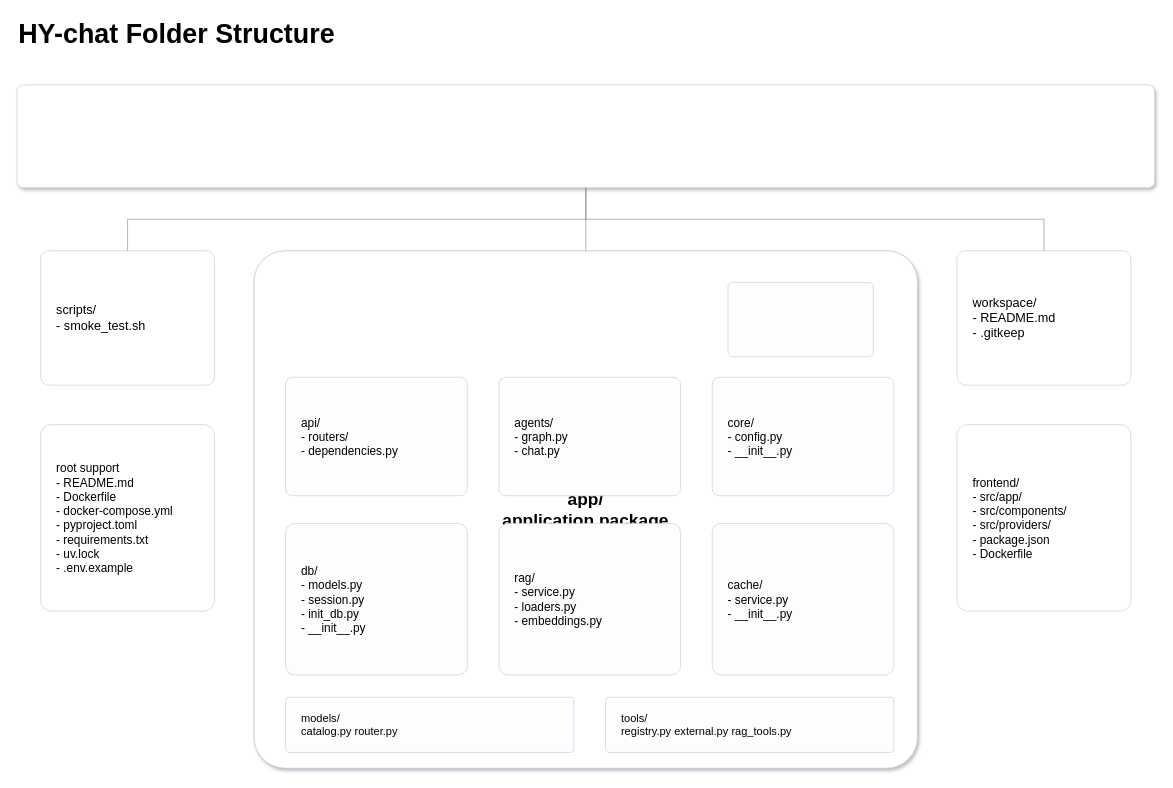
Some shapes in this 1173 by 788 pixel diagram are drawn without their labels. Here are the shapes that lost their labels. From the top down, the centre of each, then its label:
At [586,137]: "HY-chat/ project root".
At [800,319]: "main.py __init__.py".
